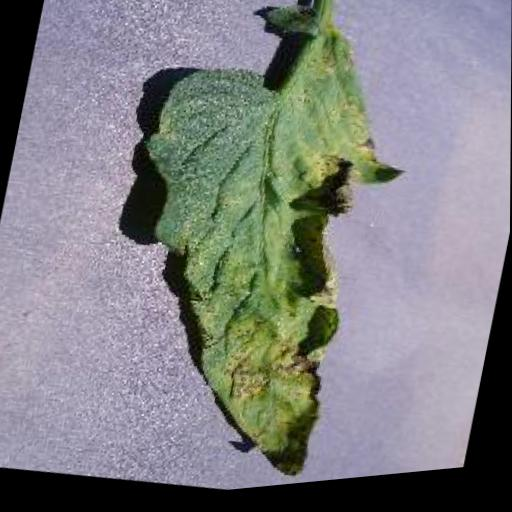Septoria: (82, 0, 435, 506)
